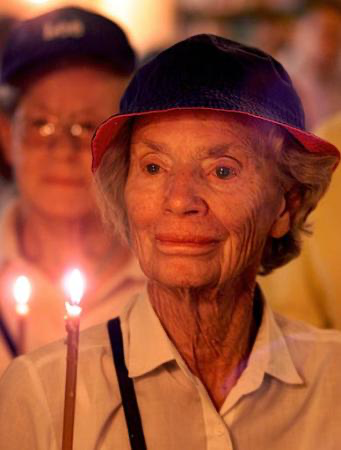Face: (115, 123, 279, 284), (7, 72, 127, 229)
